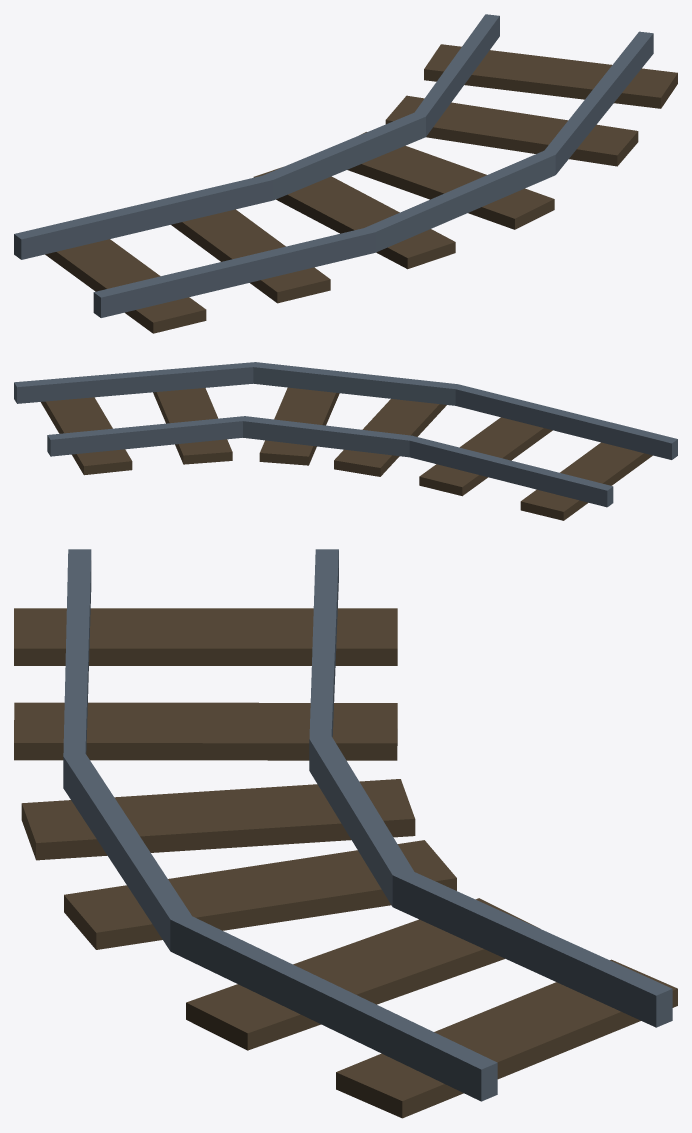
The model's file is Rail-D03.fbx.
The picture shows the model from 3 angles, top to bottom: view 1: azimuth 30°, elevation 25°; view 2: azimuth 150°, elevation 25°; view 3: azimuth 270°, elevation 25°; orthographic projection. The views are drawn at different scales.
Parts seen in each view (by area): view 1: Rail-D03; view 2: Rail-D03; view 3: Rail-D03.
Boxes of the visible parts, x1,y1,x2,y2 form: Rail-D03: (14, 14, 677, 333); Rail-D03: (14, 362, 677, 520); Rail-D03: (14, 549, 677, 1118).
Bounding box in the file's own units: 632 × 28.05 × 341.
